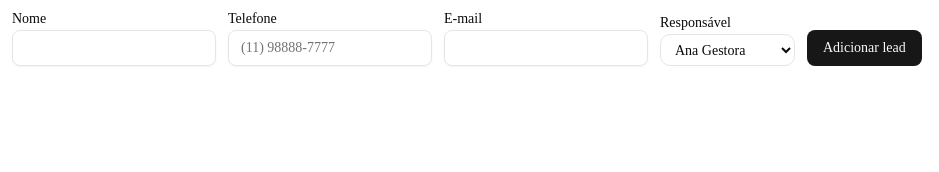
Scenario: LeadForm › em caso de sucesso, limpa o formulário e NÃO pede um segundo render
This screenshot has width=939, height=172.
Type "Cliente Teste" into the field labelled "Nome" at (114, 48), box [12,30,216,66]
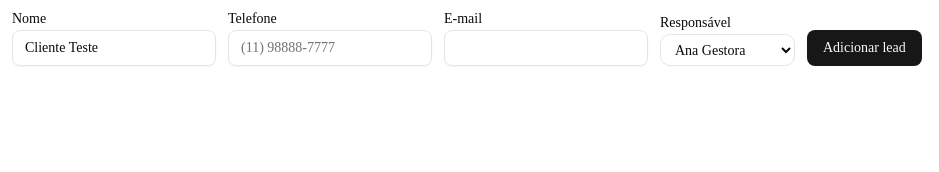
Type "11988887777" into the field labelled "Telefone" at (330, 48), box [228,30,432,66]
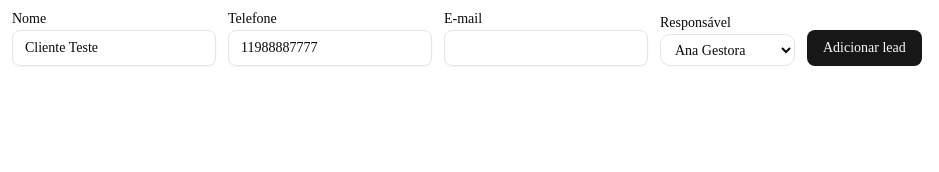
Click the button "Adicionar lead" at (864, 48), box [807,30,922,66]
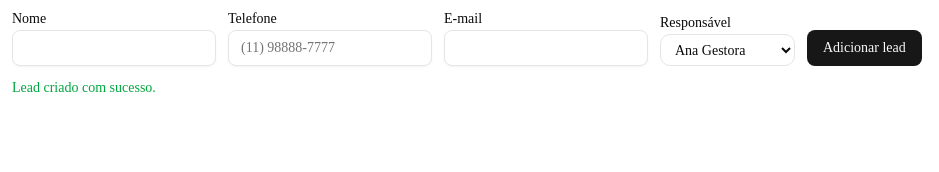
expect the text "Lead criado com sucesso." is shown: met, box [12,80,156,95]
expect the field labelled "Nome" is empty: met, box [12,30,216,66]
expect the field labelled "Telefone" is empty: met, box [228,30,432,66]
